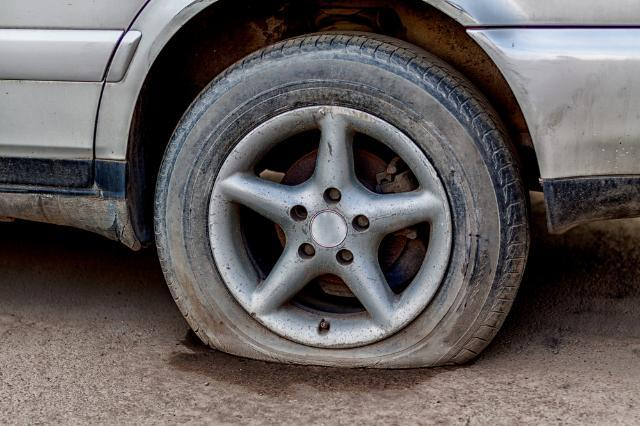tire flat: (156, 28, 532, 370)
